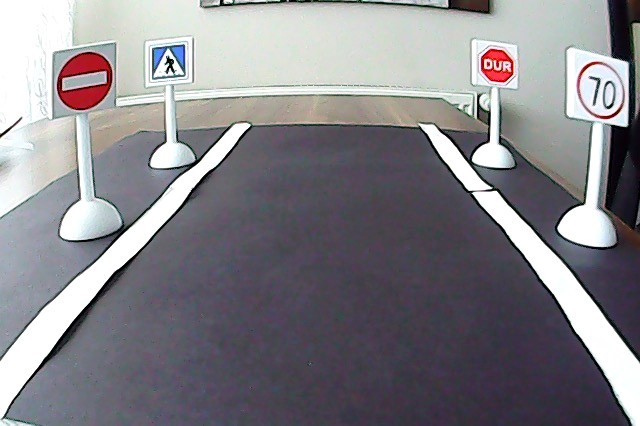do not enter: (52, 48, 114, 110)
pedestrian crossing: (149, 43, 187, 81)
speed limit 70: (571, 60, 631, 120)
stop sign: (477, 42, 520, 85)
